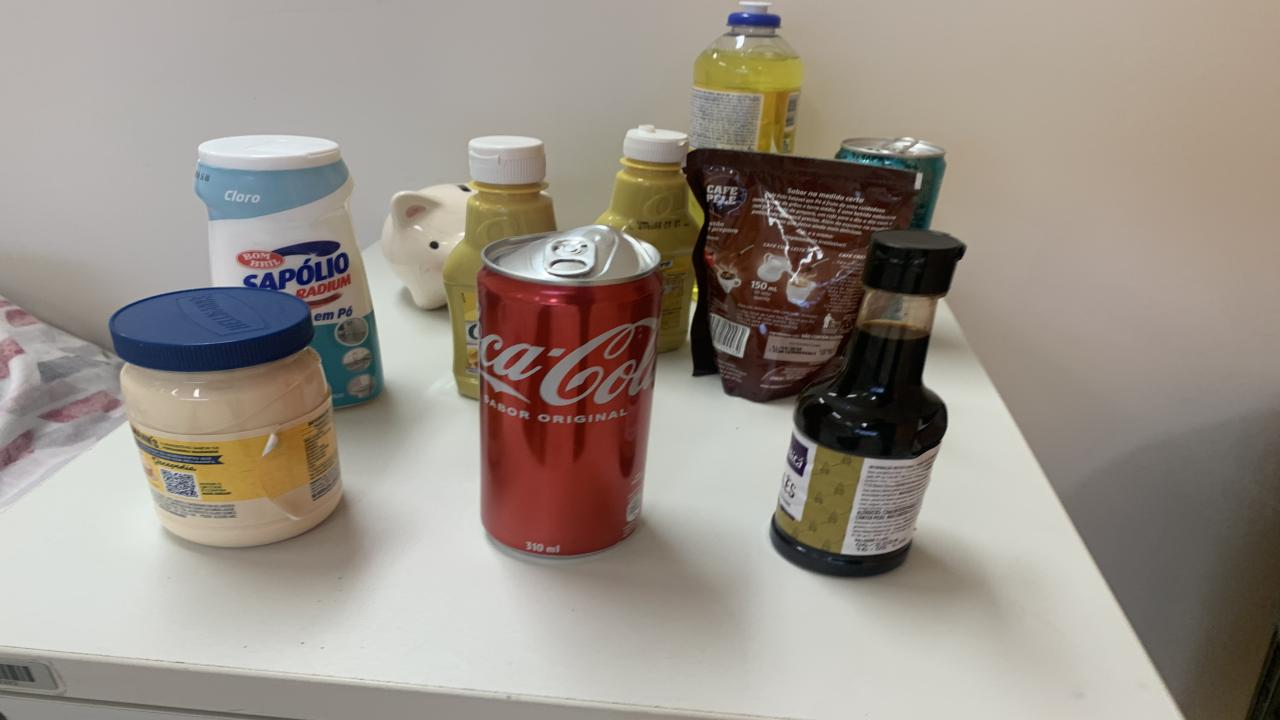Cleaner-Cleanup_Items: (195, 135, 382, 407)
Coffee-Pantry_Items: (685, 148, 928, 401)
Coke-Drinks: (478, 225, 662, 557)
Detergent-Cleanup_Items: (690, 2, 802, 154)
English_Sauce-Pantry_Items: (770, 229, 965, 576)
Mayonnaise-Pantry_Items: (110, 287, 342, 548)
Mustard-Pantry_Items: (442, 135, 558, 398), (595, 124, 698, 352)
Pig_Safe-Miscellaneous: (380, 184, 475, 309)
Tea-Drinks: (835, 137, 945, 229)
